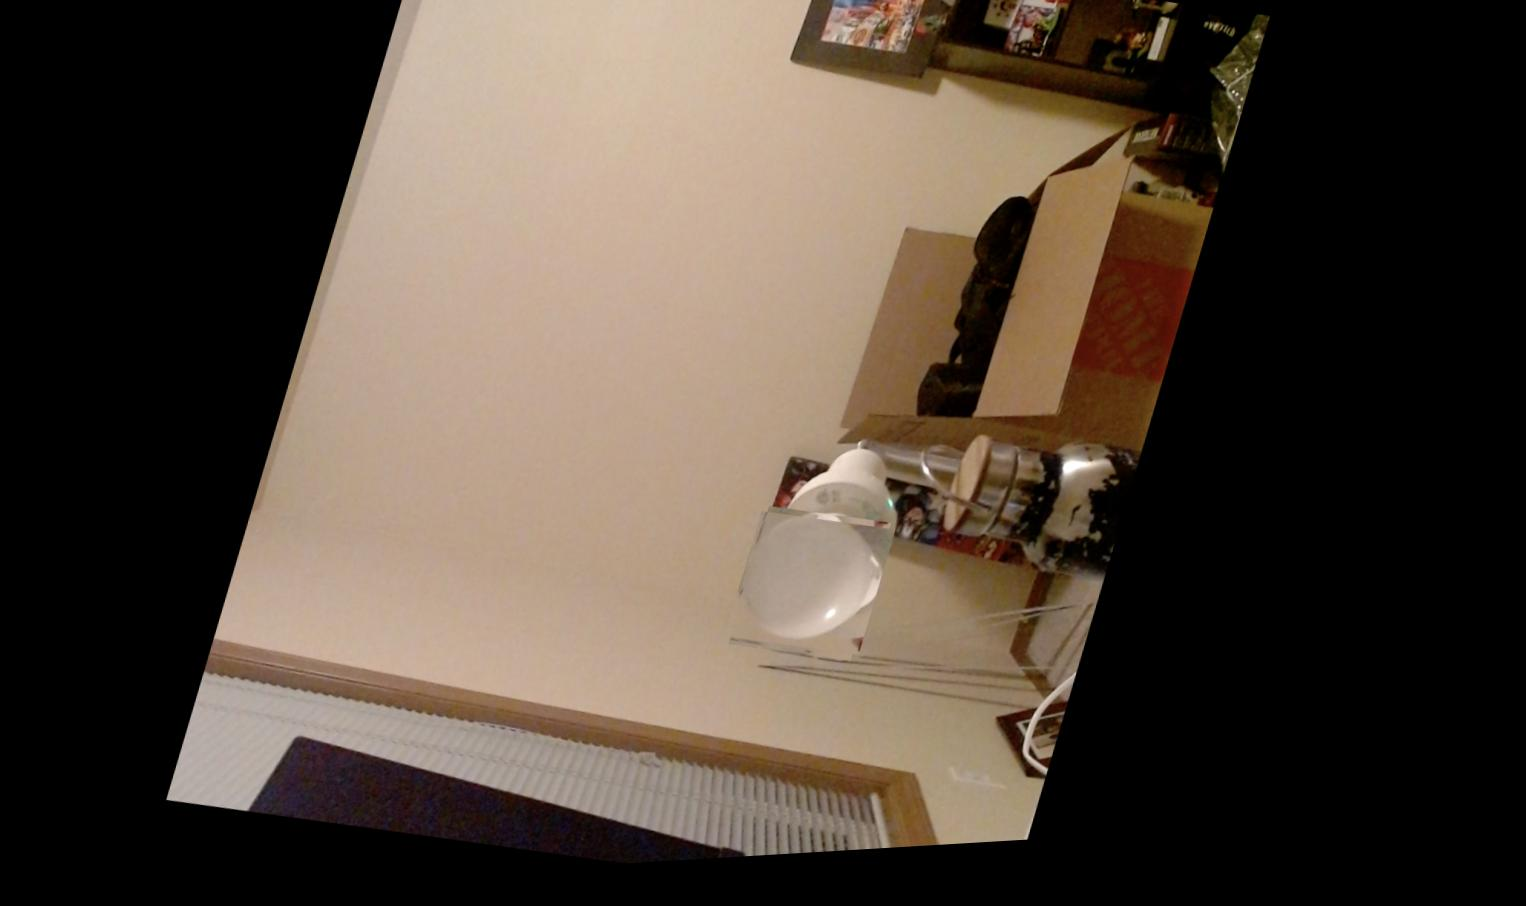Fan: (739, 512, 908, 676)
